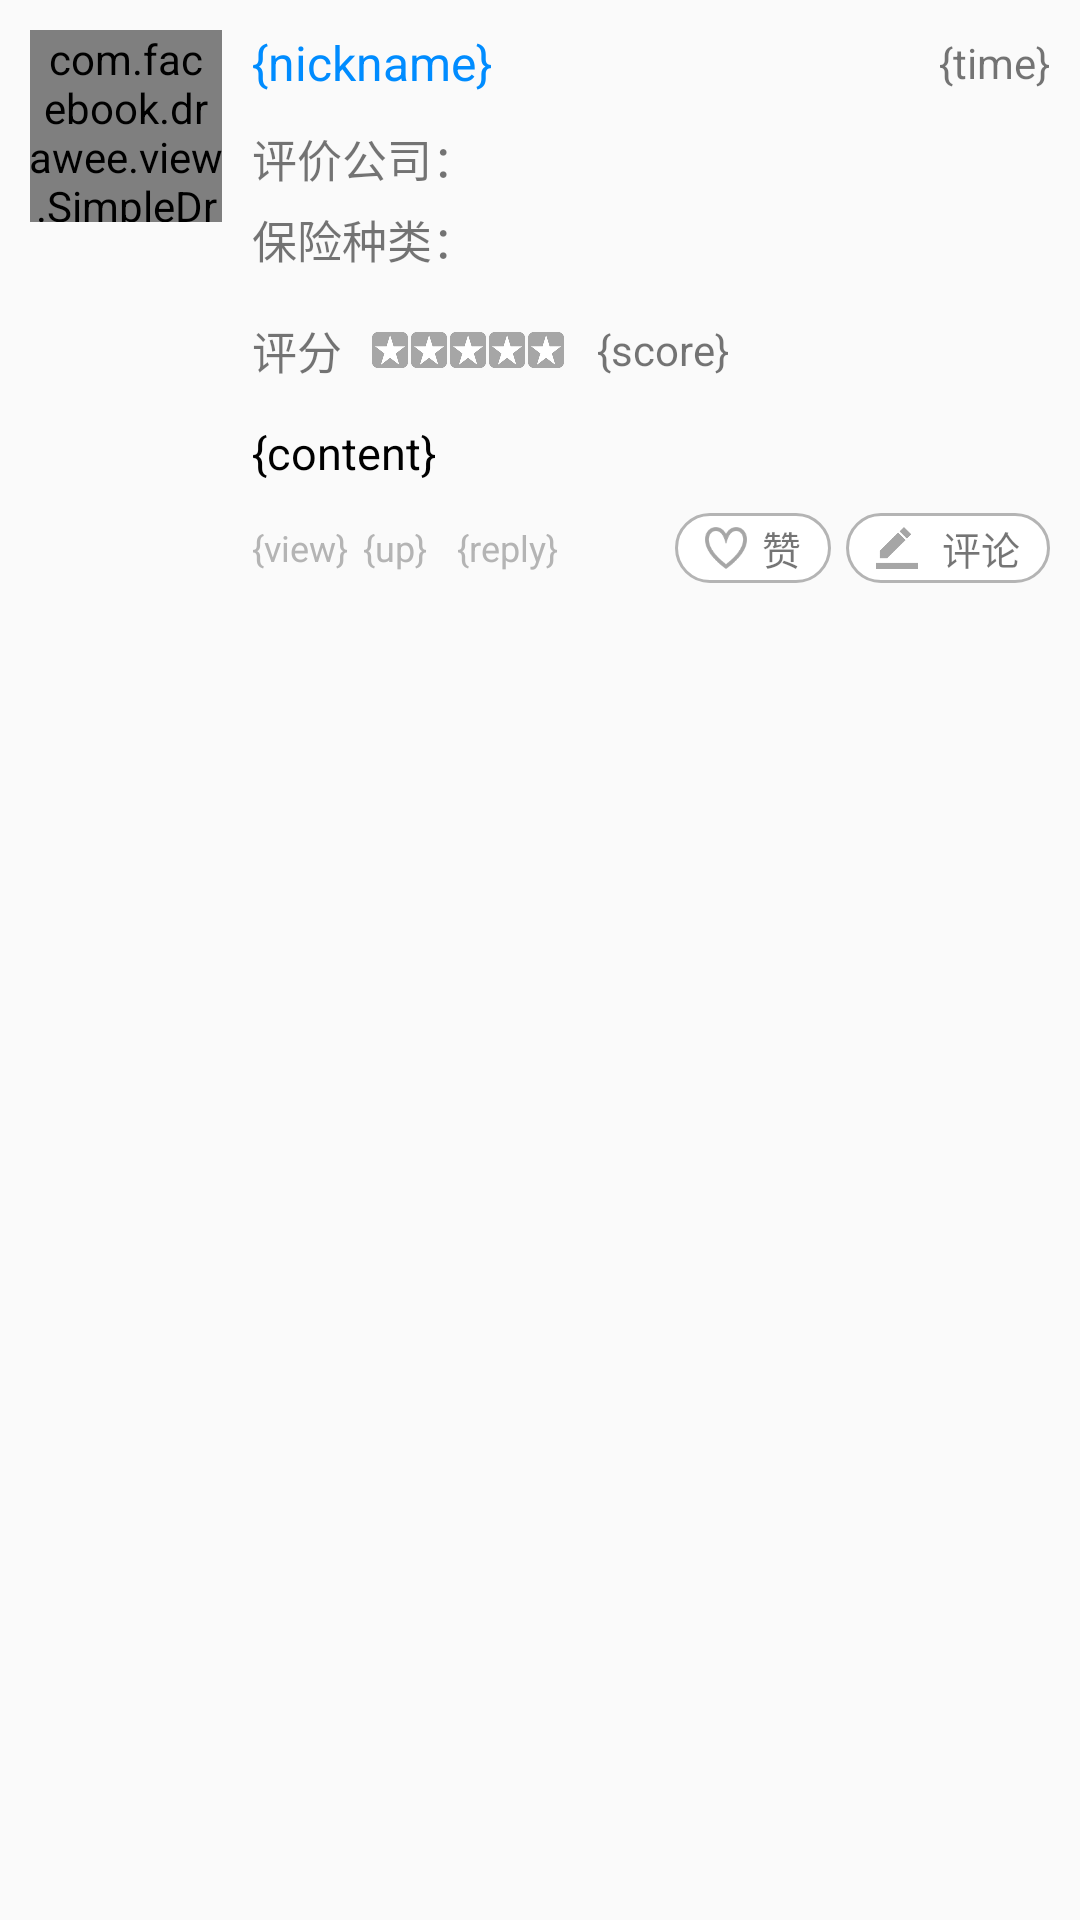

Named icons in this screenshot (1080 x 1920) and their centers, (x,y):
edit: (897,548)
star: (390,350), (429,350), (468,350), (507,350), (546,350)
